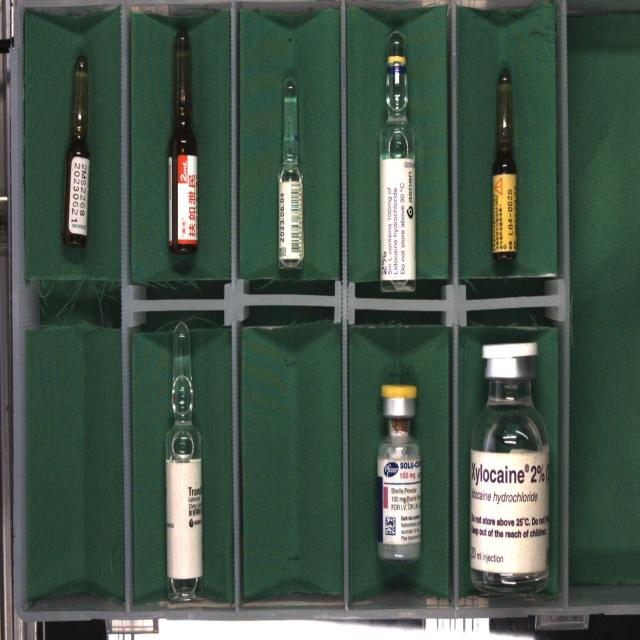Vials: (469, 341, 551, 596), (376, 385, 421, 562)
